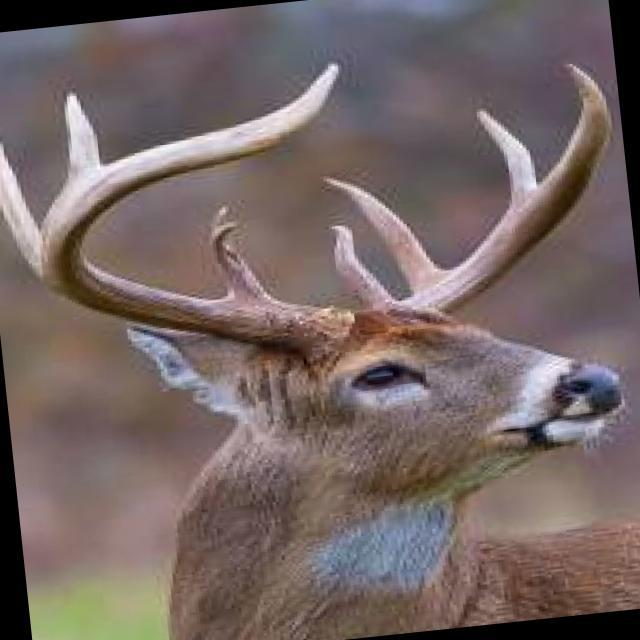L-F: (389, 62, 613, 323)
L-G1: (327, 223, 395, 311)
L-G2: (321, 174, 452, 296)
L-G3: (474, 106, 536, 212)
R-F: (41, 61, 354, 373)
R-G1: (206, 204, 277, 303), (0, 137, 44, 284)
R-G2: (63, 91, 102, 189)
